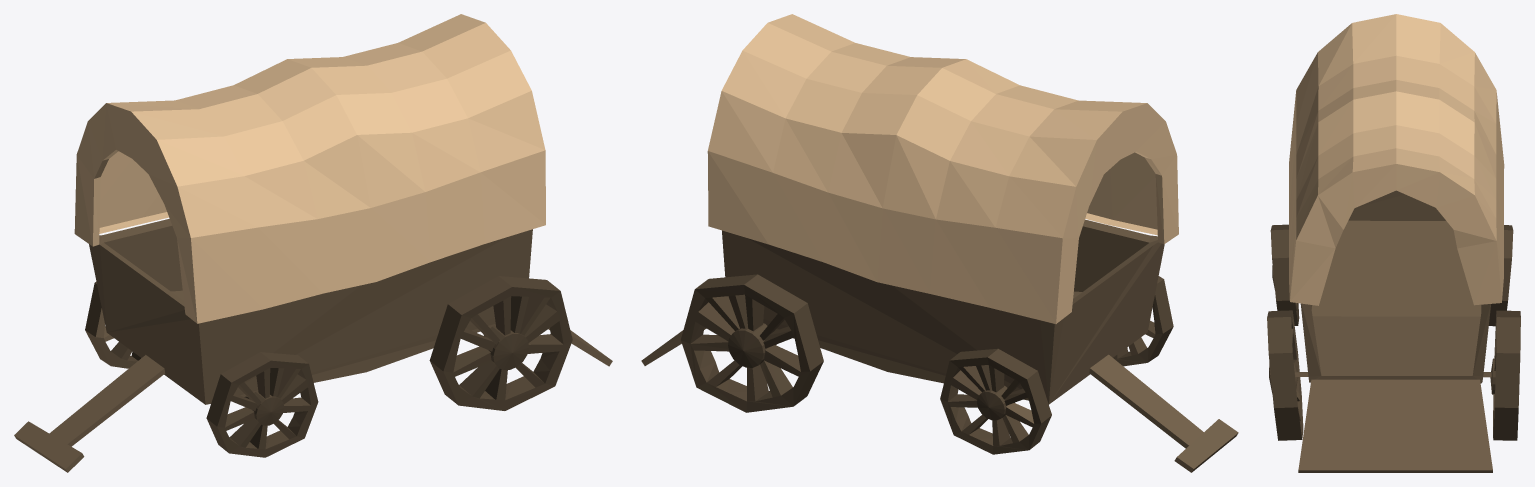
File: wagon fbx.fbx
3 views of the same model, side by side, from view 1: azimuth 30°, elevation 25°; view 2: azimuth 150°, elevation 25°; view 3: azimuth 270°, elevation 25° (orthographic). The views are drawn at different scales.
Visible parts, largest first — view 1: pCube9; view 2: pCube9; view 3: pCube9.
Boxes of the visible parts, x1,y1,x2,y2 form: pCube9: (14,14,612,472); pCube9: (641,14,1238,472); pCube9: (1267,14,1520,472).
Size of the model in its own units: 15.85 by 9.55 by 7.64.
